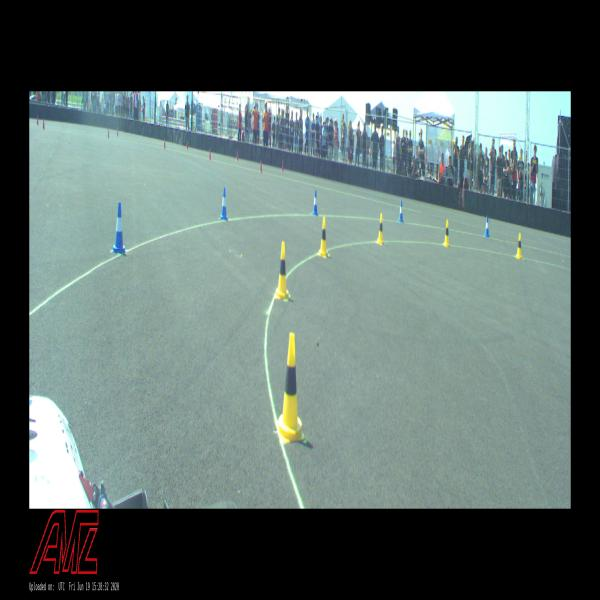blue_cone: (111, 202, 126, 255), (219, 187, 228, 221), (312, 190, 319, 216), (398, 201, 404, 222), (484, 216, 490, 237)
unknown_cone: (42, 118, 45, 129), (36, 115, 39, 125), (260, 160, 262, 172), (209, 148, 211, 160), (282, 160, 284, 171), (236, 151, 238, 161), (186, 140, 188, 150), (108, 129, 110, 138), (164, 138, 165, 149), (117, 126, 118, 136)
yellow_cone: (278, 332, 306, 444), (276, 242, 290, 301), (318, 217, 330, 258), (376, 213, 384, 245), (515, 234, 523, 258), (443, 220, 450, 247)
